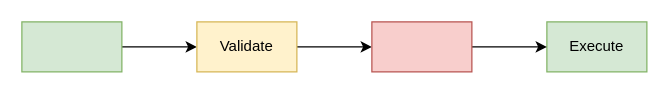
Image size: 669x94. Some labels were removed from this diagram. The shapes that lost their labels are listed below. From the top down, each one's centre as x and y in pixels, then its label:
At (71,46): "Parser".
At (421,46): "Optimize".
